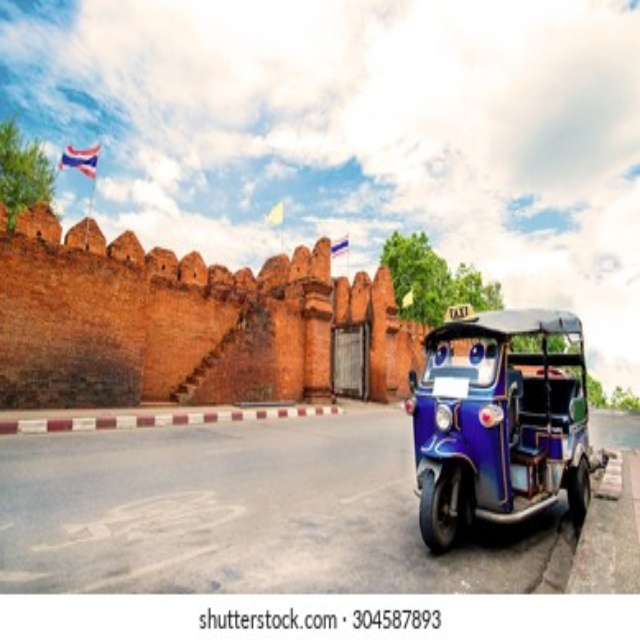Motorcycle: (405, 302, 592, 558)
